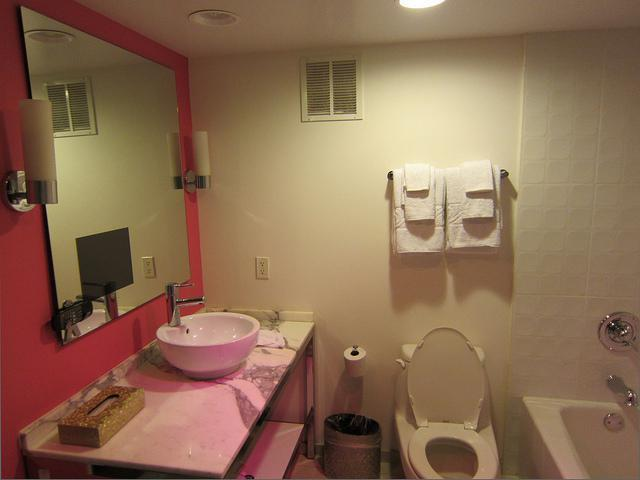Bote de Basura: (323, 408, 386, 479)
Lavamanos: (159, 272, 264, 384)
Sanitario: (403, 333, 485, 479)
